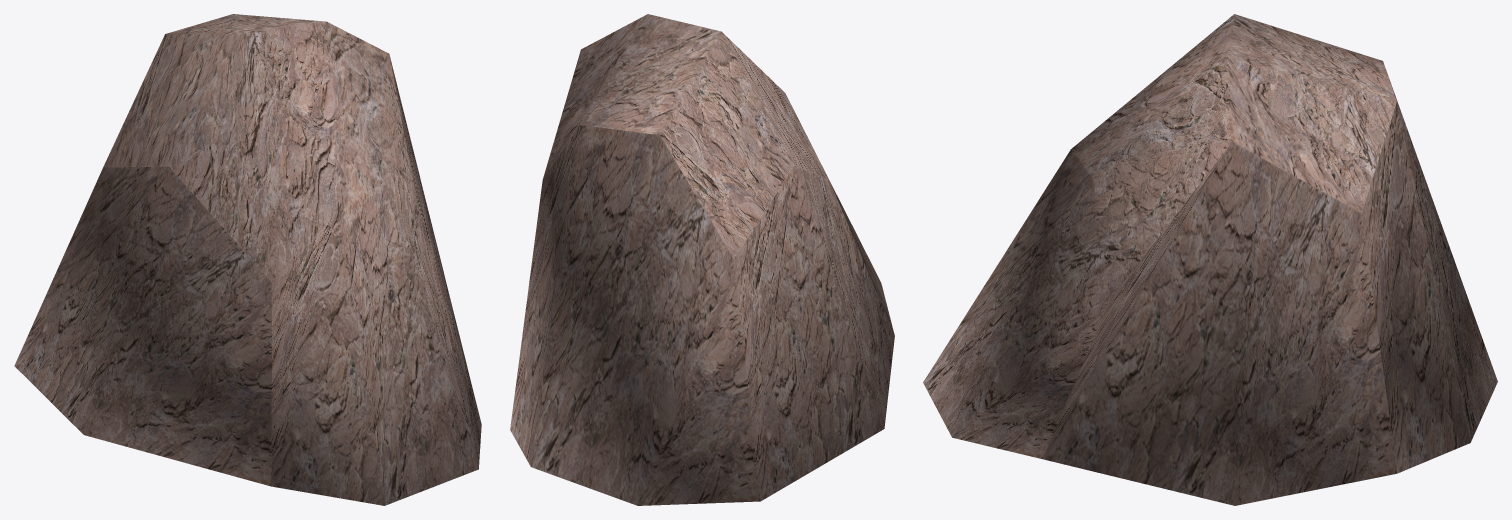
File: Stone_03.FBX
3 views of the same model, side by side, from view 1: azimuth 30°, elevation 25°; view 2: azimuth 150°, elevation 25°; view 3: azimuth 270°, elevation 25° (orthographic). The views are drawn at different scales.
Parts seen in each view (by area): view 1: Box001; view 2: Box001; view 3: Box001.
Part boxes in pixels (x1=…): Box001: x1=14, y1=14, x2=481, y2=505; Box001: x1=510, y1=14, x2=894, y2=505; Box001: x1=923, y1=14, x2=1497, y2=505.
Bounding box in the file's own units: 54.66 × 57.46 × 75.19.
